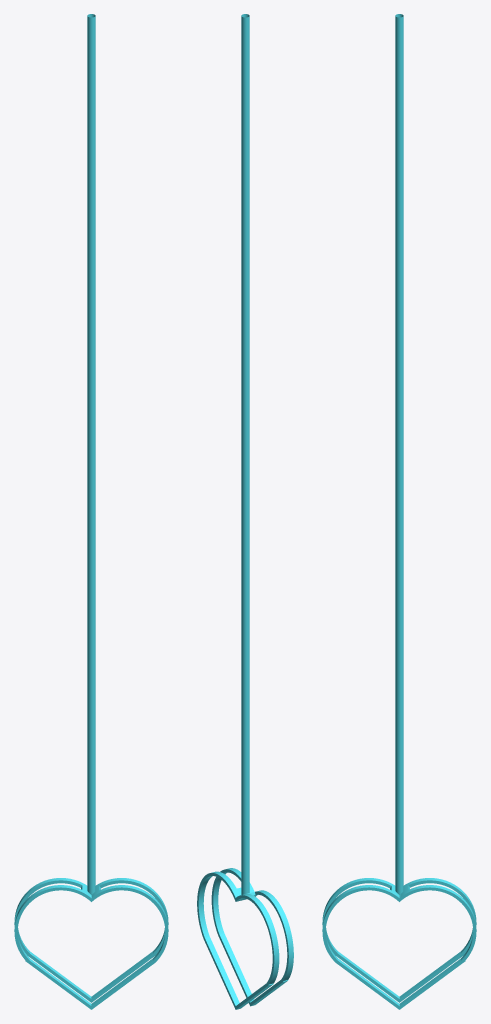
Rendered from cutter7_heart.fbx.
3 renders of one model, left to right at view 1: azimuth 90°, elevation 25°; view 2: azimuth 210°, elevation 25°; view 3: azimuth 270°, elevation 25°, orthographic.
Visible parts, largest first — view 1: Cutter7_Heart; view 2: Cutter7_Heart; view 3: Cutter7_Heart.
Boxes of the visible parts, bbox=[...] form: Cutter7_Heart: bbox=[14, 14, 168, 1009]; Cutter7_Heart: bbox=[197, 14, 293, 1009]; Cutter7_Heart: bbox=[322, 14, 476, 1009].
Size of the model in its own units: 16.8 by 811 by 114.
